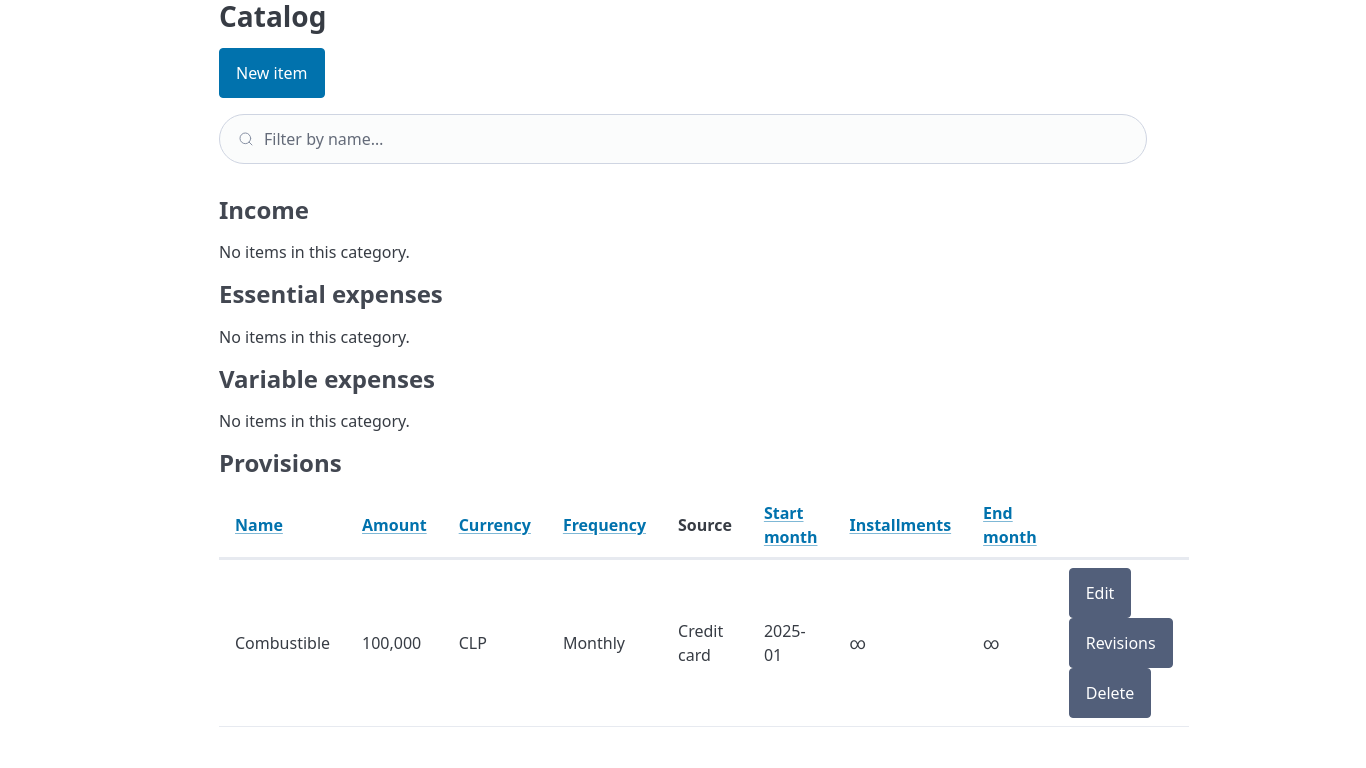
Test: CatalogView › shows is_saving checkbox in edit dialog when category is provision
The image size is (1366, 768).
Click the button "Edit".
click(1100, 593)  # box [1069,568,1131,618]
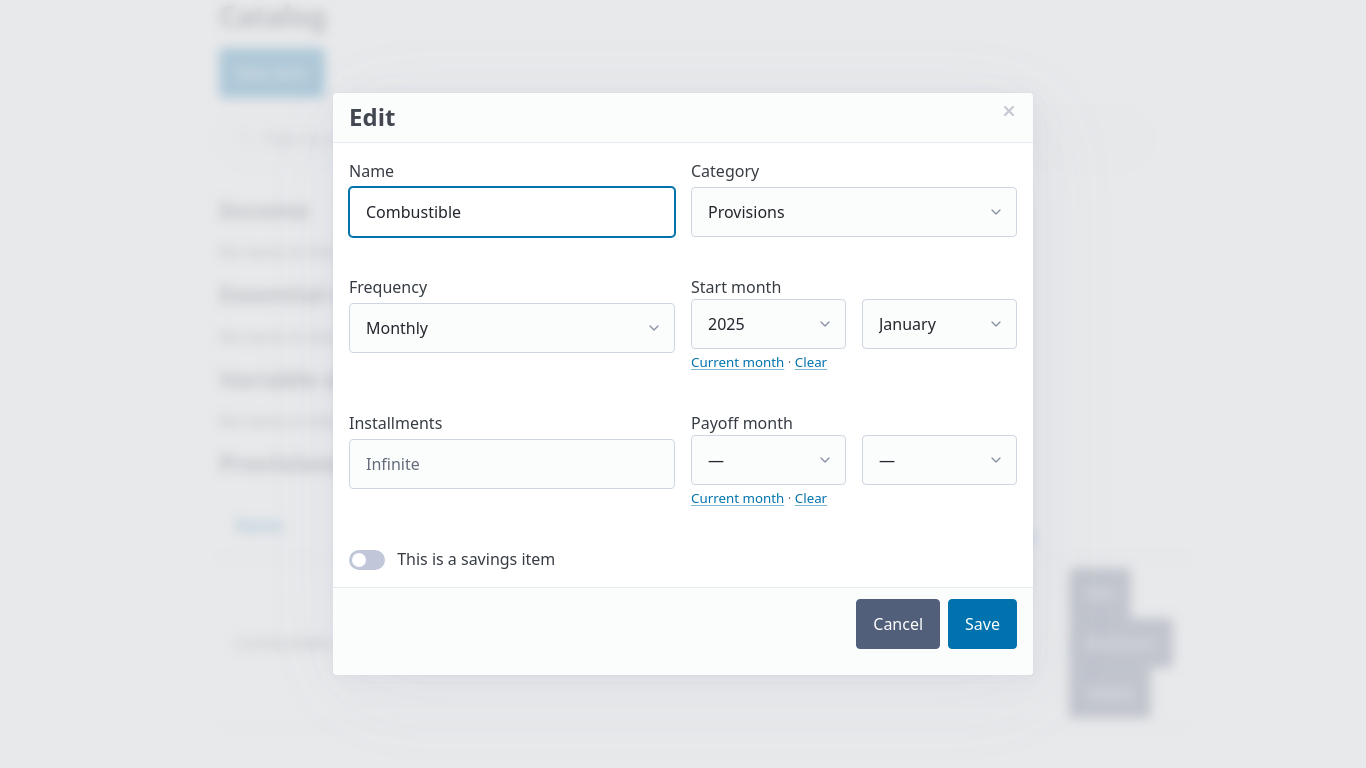
Check: the switch labelled "This is a savings item" is shown, box [349,550,385,570]
